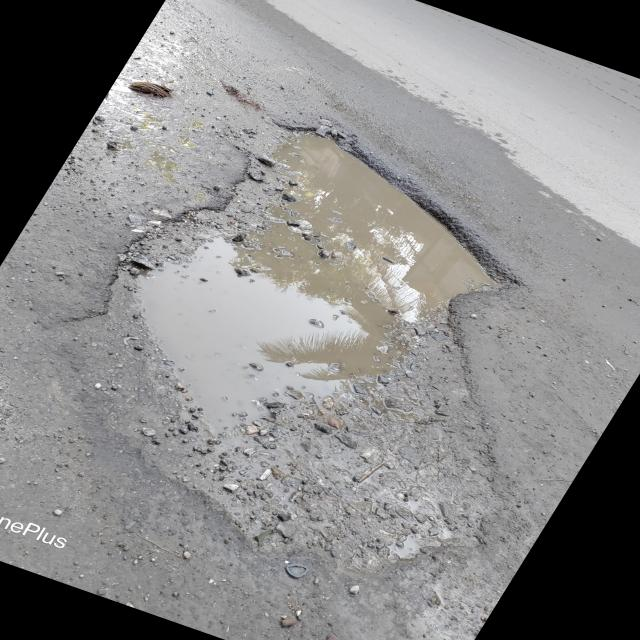Puddle pothole: (128, 112, 495, 522)
